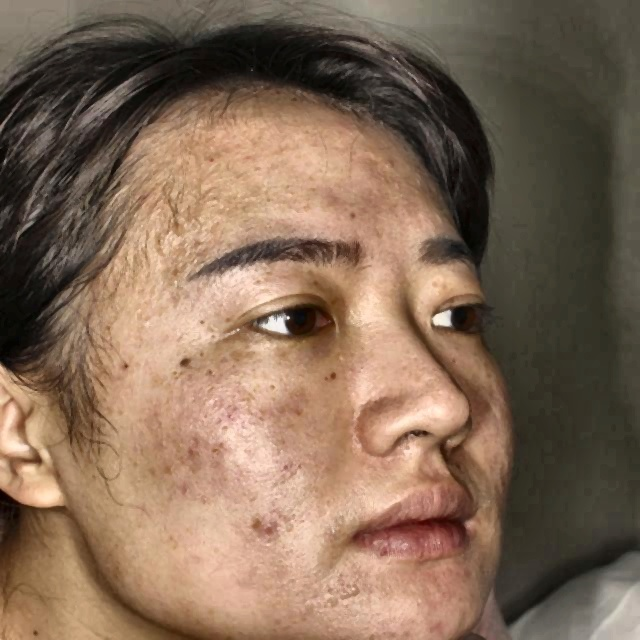comedone: (369, 146, 409, 182), (243, 518, 290, 540)
